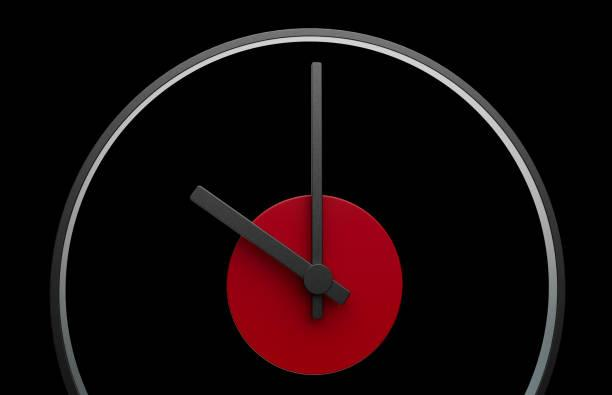clock: (53, 25, 560, 395)
